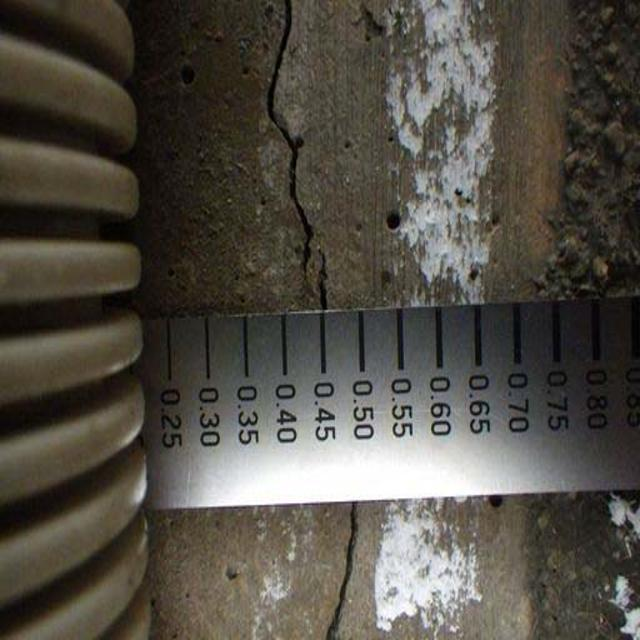crack: (263, 12, 347, 297), (315, 505, 364, 640)
